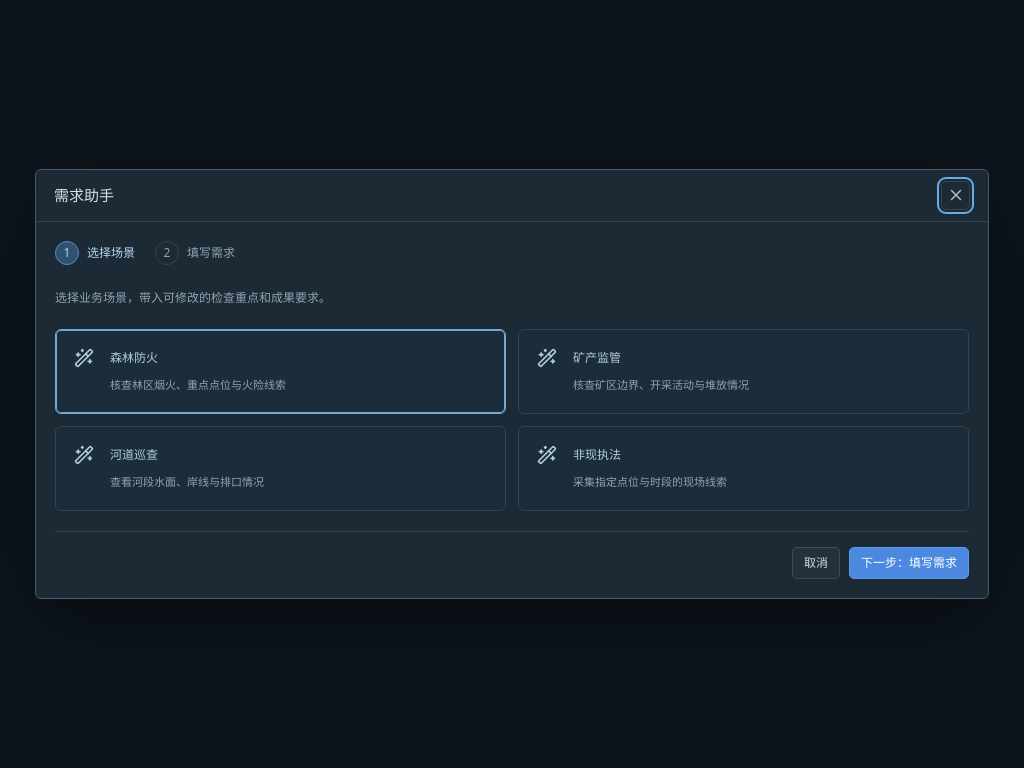
需求助手 › 拒绝结束早于开始的时间
The image size is (1024, 768).
Click the button "下一步：填写需求".
click(909, 563)  # box [849,547,969,580]
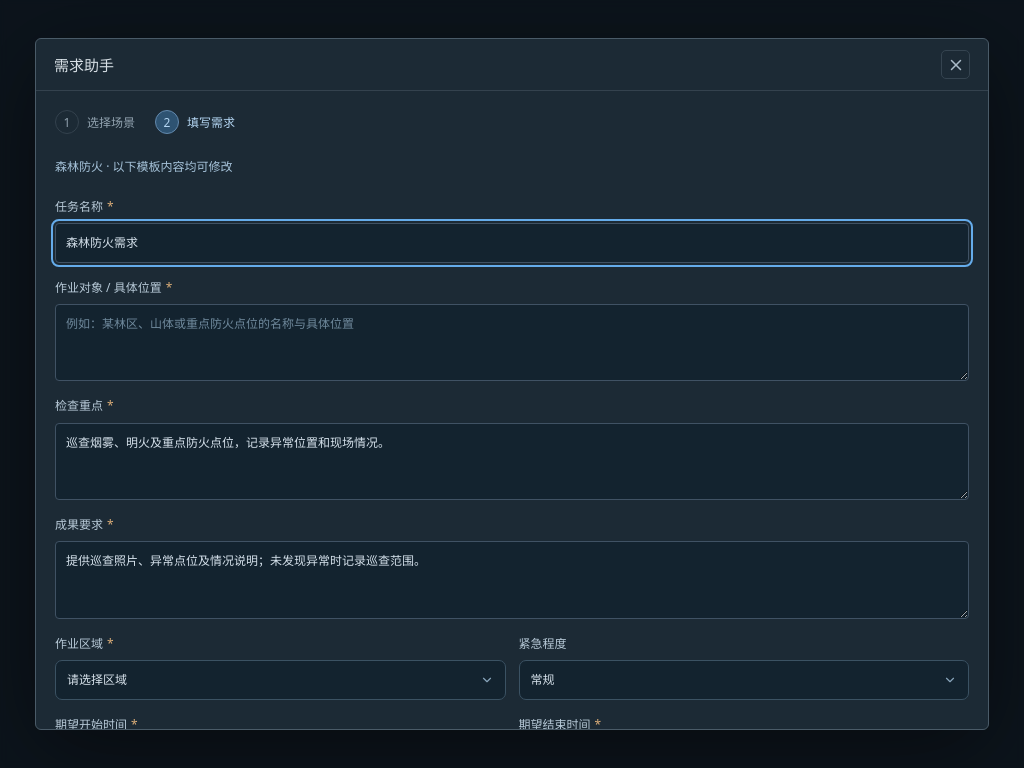
Type "测试林区北侧" into the text box labelled "作业对象 / 具体位置*".
click(512, 343); type("测试林区北侧")  # box [55,304,969,381]
Click the dropdown named "作业区域".
click(97, 680)  # box [55,660,506,700]
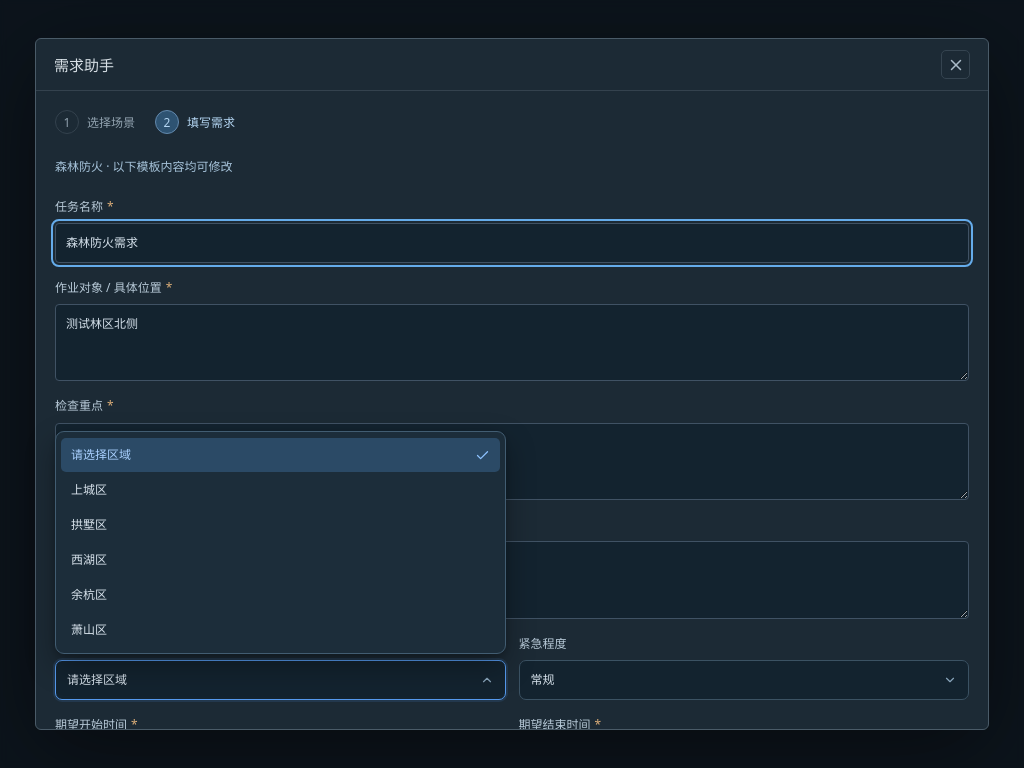
Click the option "西湖区".
click(89, 560)  # box [71,551,107,568]
(page scrolled)
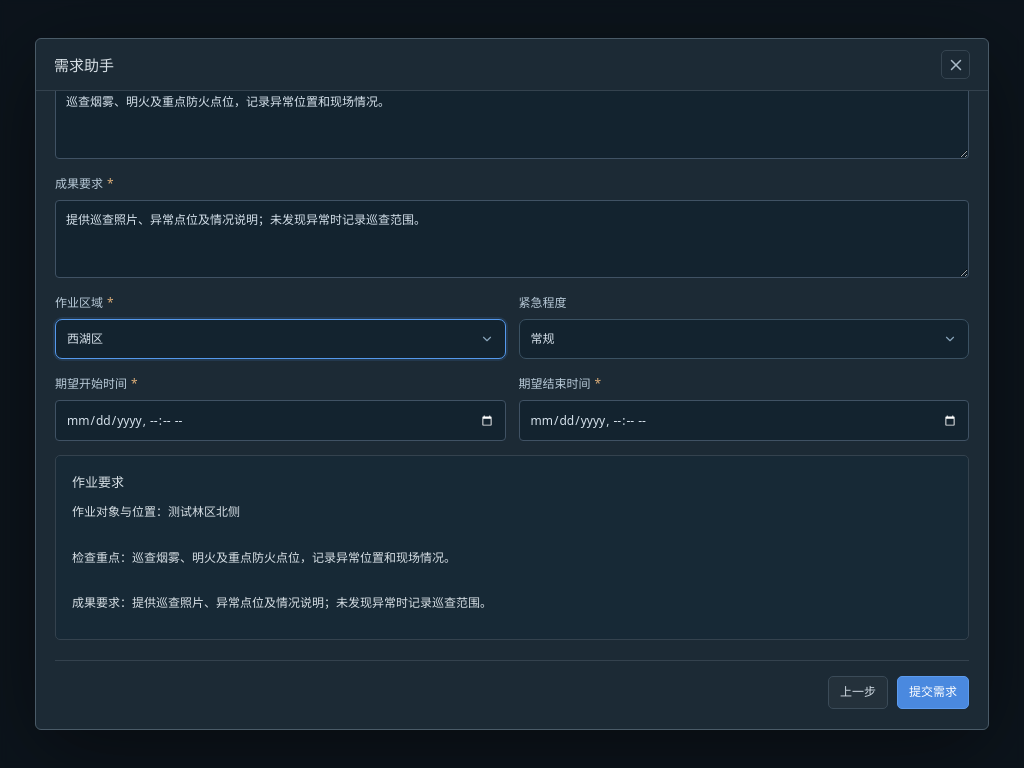
Type "2026-10-24T09:00" into the field labelled "期望开始时间*".
click(280, 421); type("2026-10-24T09:00")  # box [55,400,506,441]
Type "2026-10-24T10:00" into the field labelled "期望结束时间*".
click(744, 421); type("2026-10-24T10:00")  # box [518,400,969,441]
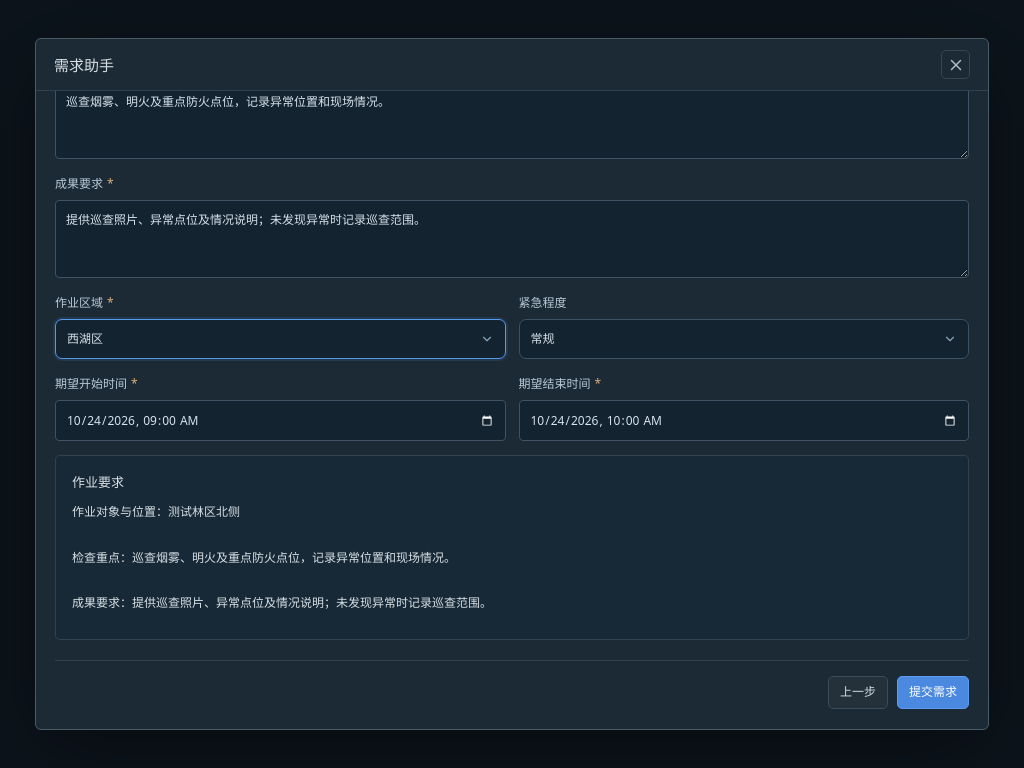
Replace the text in the field labelled "期望结束时间*" with "2026-10-24T08:00" at (744, 421), box [518,400,969,441]
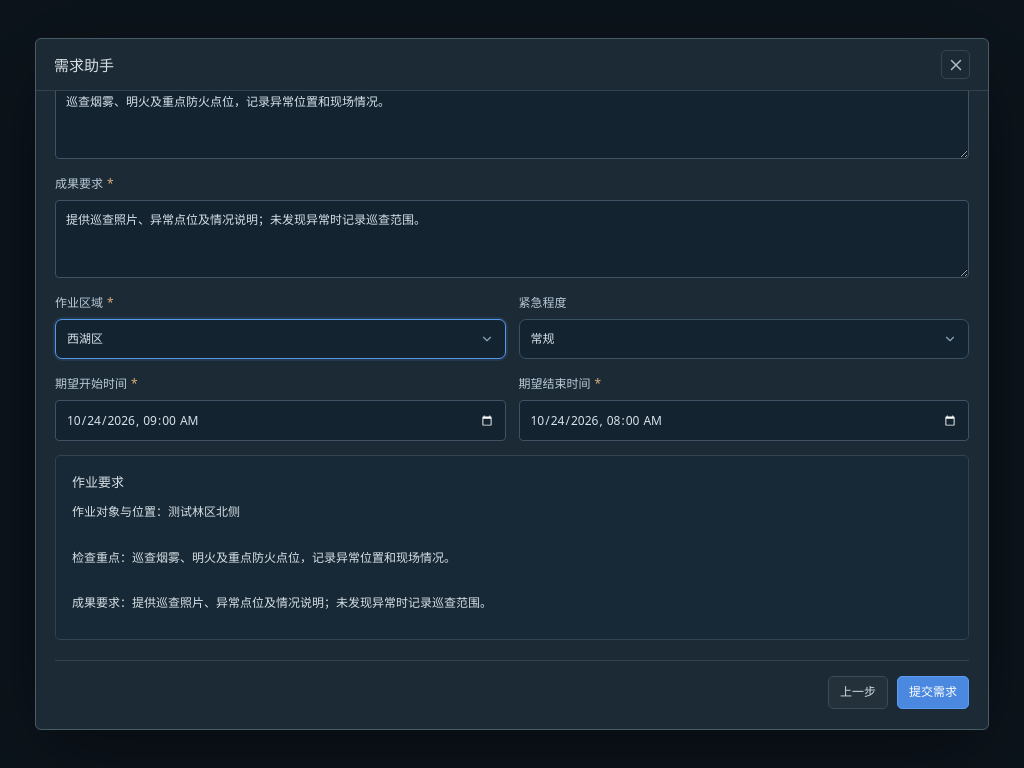
Click the button "提交需求".
click(933, 693)  # box [897,676,969,709]
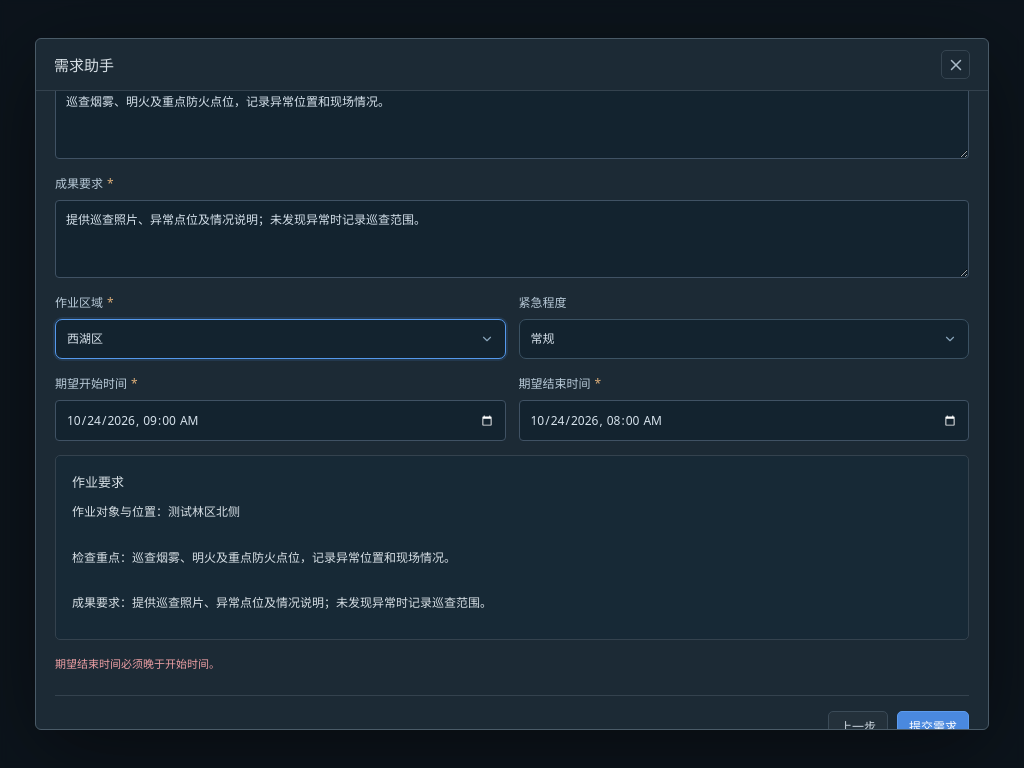
Expected: the message reads "期望结束时间必须晚于开始时间。", [55,656,220,671]
